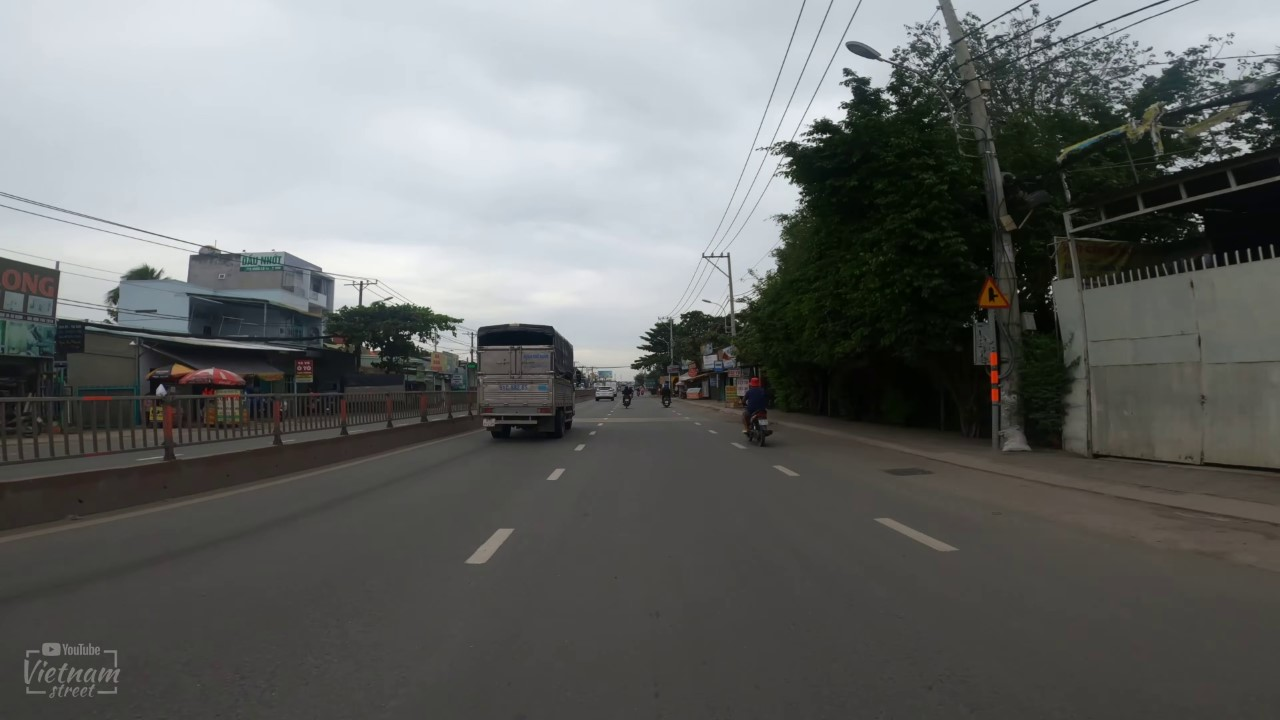giao_khong_uu_tien_phai: (975, 273, 1014, 310)
